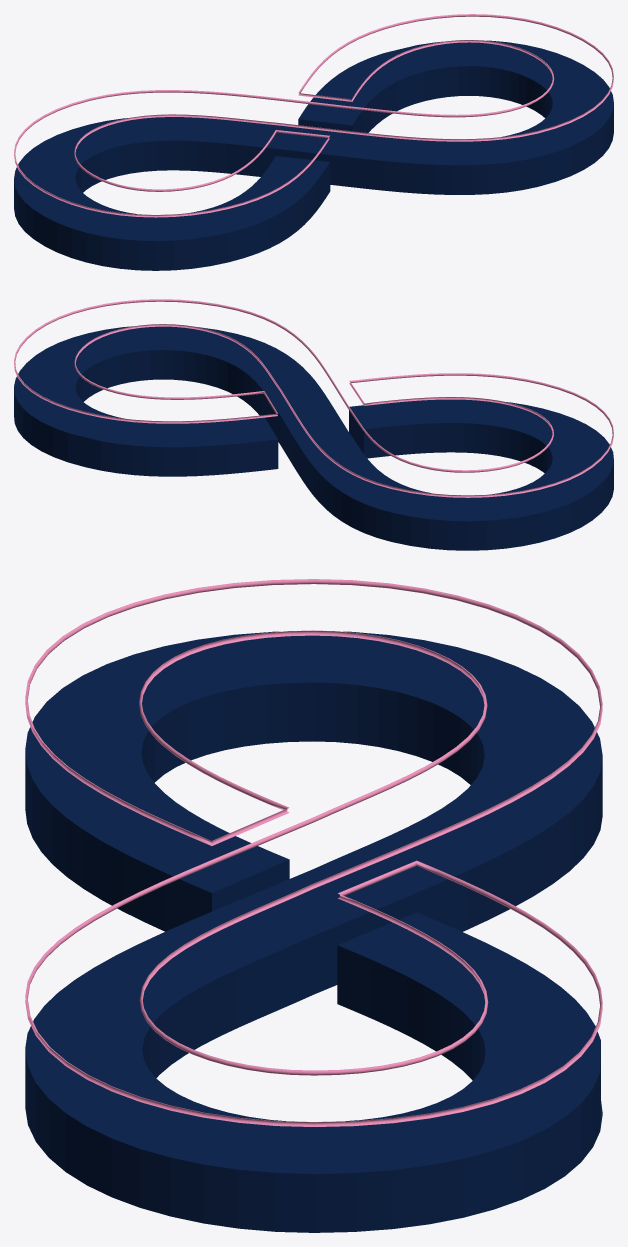
File: Infinity02.gltf
3 renders of one model, top to bottom at view 1: azimuth 30°, elevation 25°; view 2: azimuth 150°, elevation 25°; view 3: azimuth 270°, elevation 25°, orthographic. The views are drawn at different scales.
Visible parts, largest first — view 1: Curve, Curve.001; view 2: Curve, Curve.001; view 3: Curve, Curve.001.
Boxes of the visible parts, x1,y1,x2,y2 form: Curve: (14, 40, 613, 270); Curve.001: (14, 14, 613, 217); Curve: (14, 326, 613, 550); Curve.001: (14, 299, 613, 497); Curve: (25, 631, 602, 1232); Curve.001: (25, 579, 602, 1126).
Size of the model in its own units: 8.87 by 0.8424 by 3.98.
